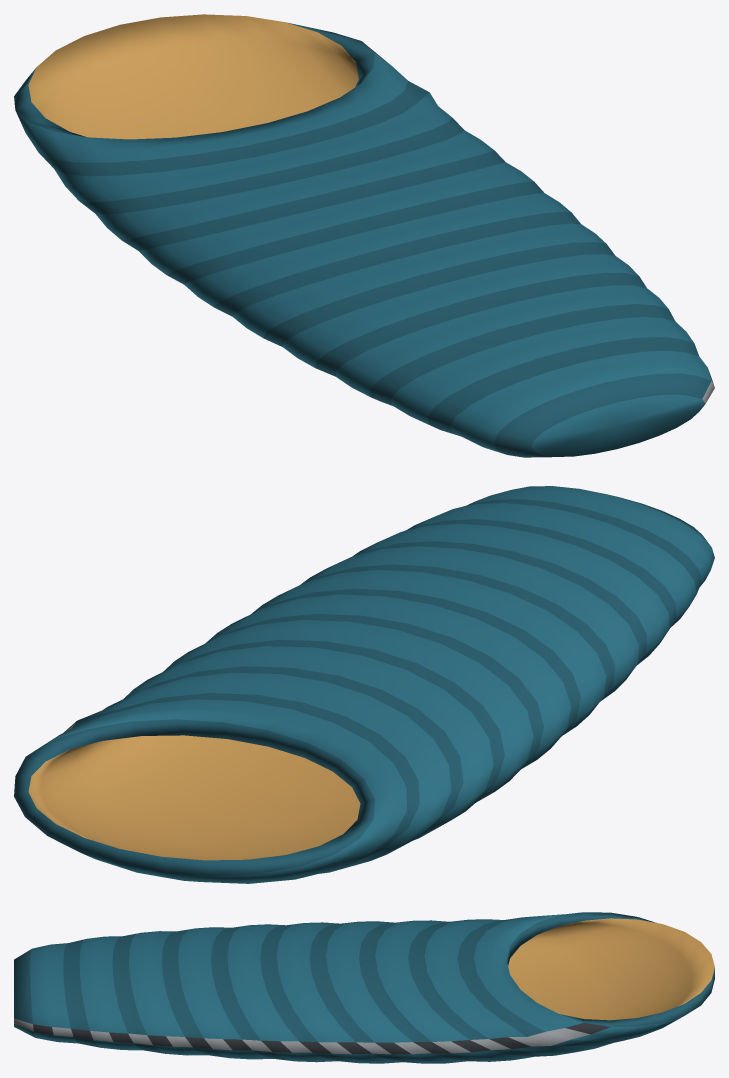
File: NEW_RECOVERY_103_LOD1.fbx
The picture shows the model from 3 angles, top to bottom: view 1: azimuth 30°, elevation 25°; view 2: azimuth 150°, elevation 25°; view 3: azimuth 270°, elevation 25°; orthographic projection. The views are drawn at different scales.
Parts seen in each view (by area): view 1: Unrolled mummy sleeping bag; view 2: Unrolled mummy sleeping bag; view 3: Unrolled mummy sleeping bag.
Boxes of the visible parts, <box> form: Unrolled mummy sleeping bag: <box>14,14,714,457</box>; Unrolled mummy sleeping bag: <box>14,486,714,883</box>; Unrolled mummy sleeping bag: <box>14,912,714,1063</box>.
Bounding box in the file's own units: 88.58 × 212 × 24.95.
